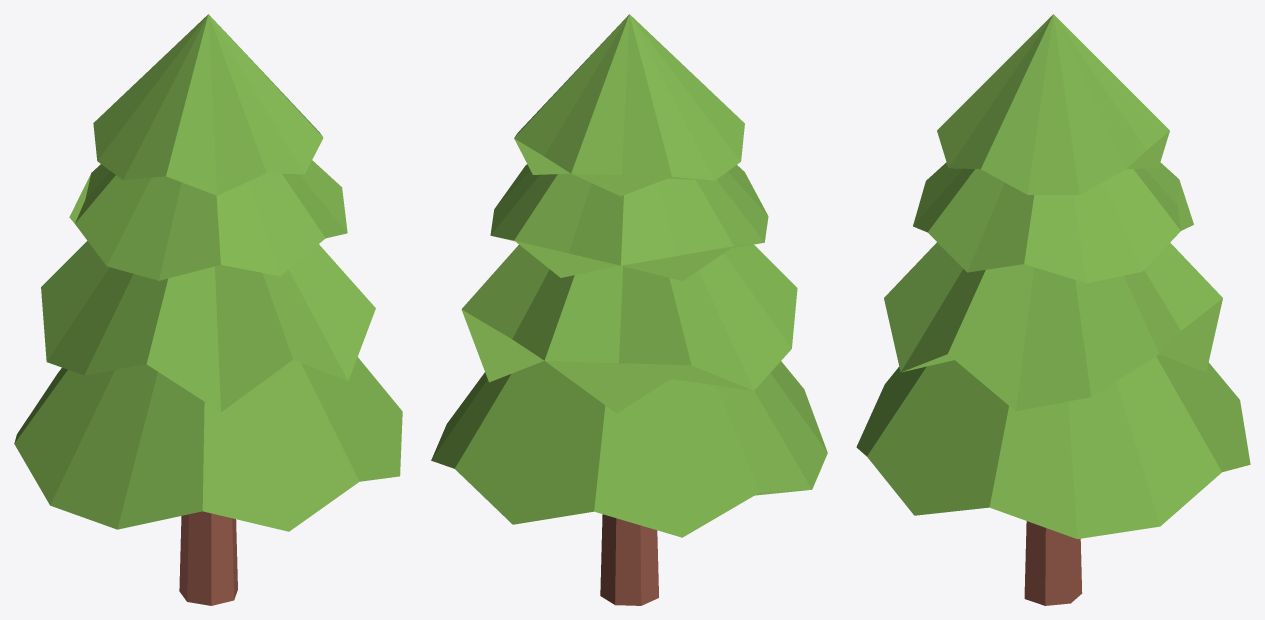
The model's file is tree_4.fbx.
3 views of the same model, side by side, from view 1: azimuth 30°, elevation 25°; view 2: azimuth 150°, elevation 25°; view 3: azimuth 270°, elevation 25° (orthographic).
Parts seen in each view (by area): view 1: Cone.003; view 2: Cone.003; view 3: Cone.003.
Boxes of the visible parts, <box> form: Cone.003: <box>14,14,402,605</box>; Cone.003: <box>431,14,827,605</box>; Cone.003: <box>856,14,1250,605</box>.
Bounding box in the file's own units: 232 × 377 × 232.
